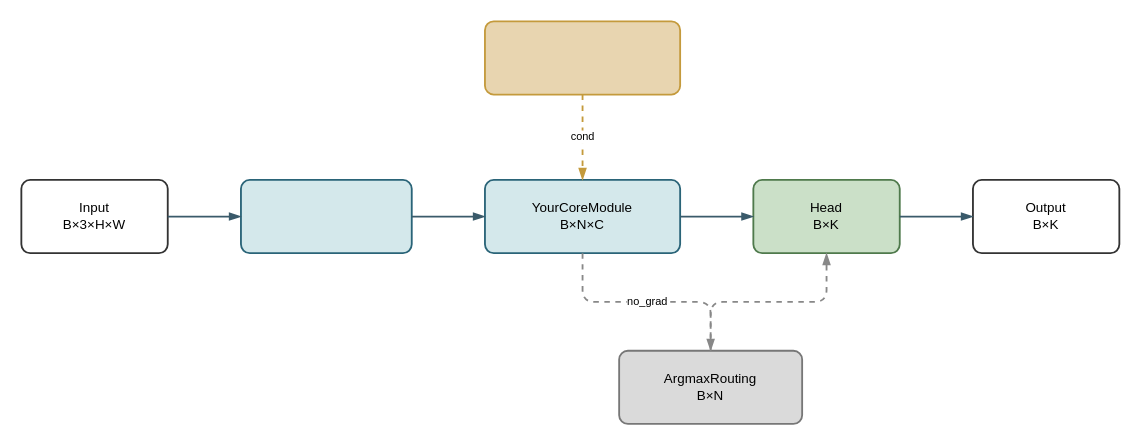
This 1142x447 diagram has some shape labels left out. Here are the shapes that lost their labels. From the top down, the centre of each, then its label:
point (582, 57): ConditionEncoder B×D
point (325, 216): PatchEmbed B×N×C
